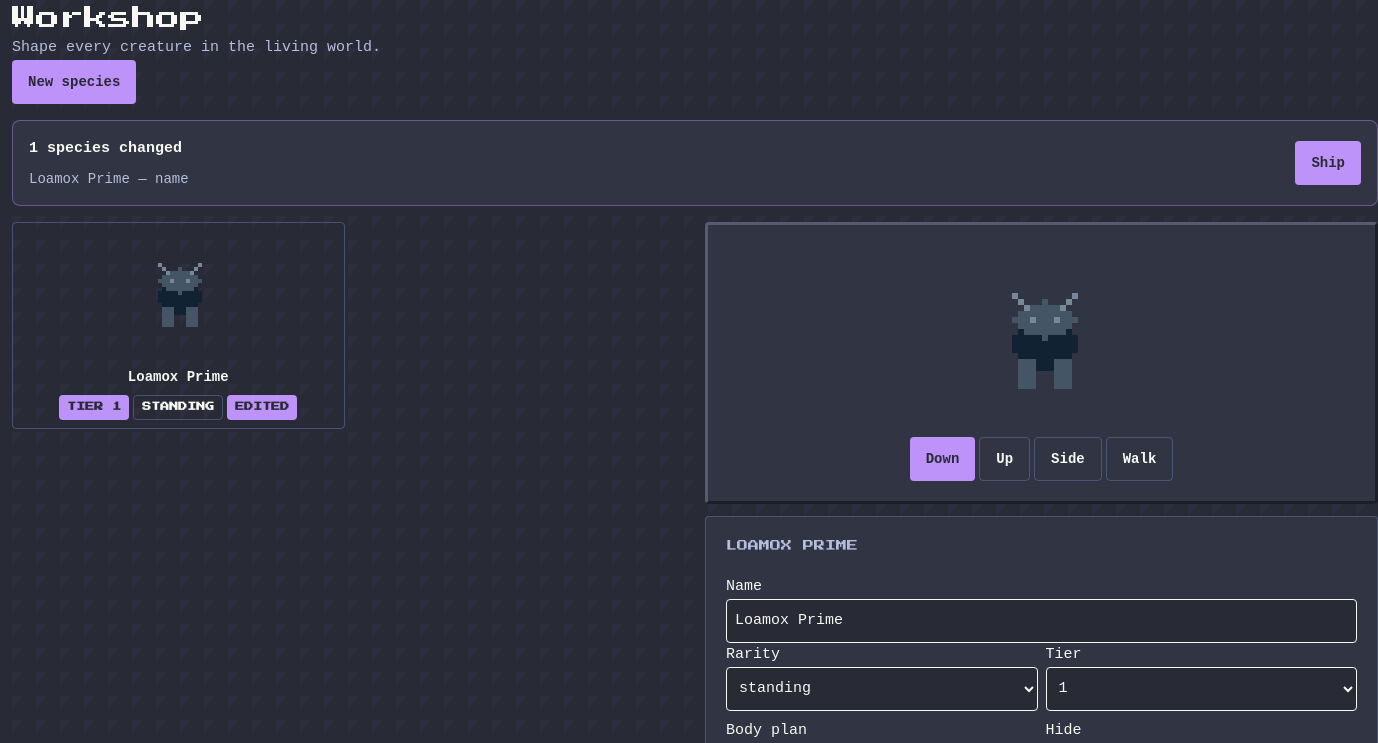
Scenario: Workshop › shows the failing rule in plain English and keeps the draft
Click the button "Ship" at coordinates (1328, 163), box [1295,141,1361,185]
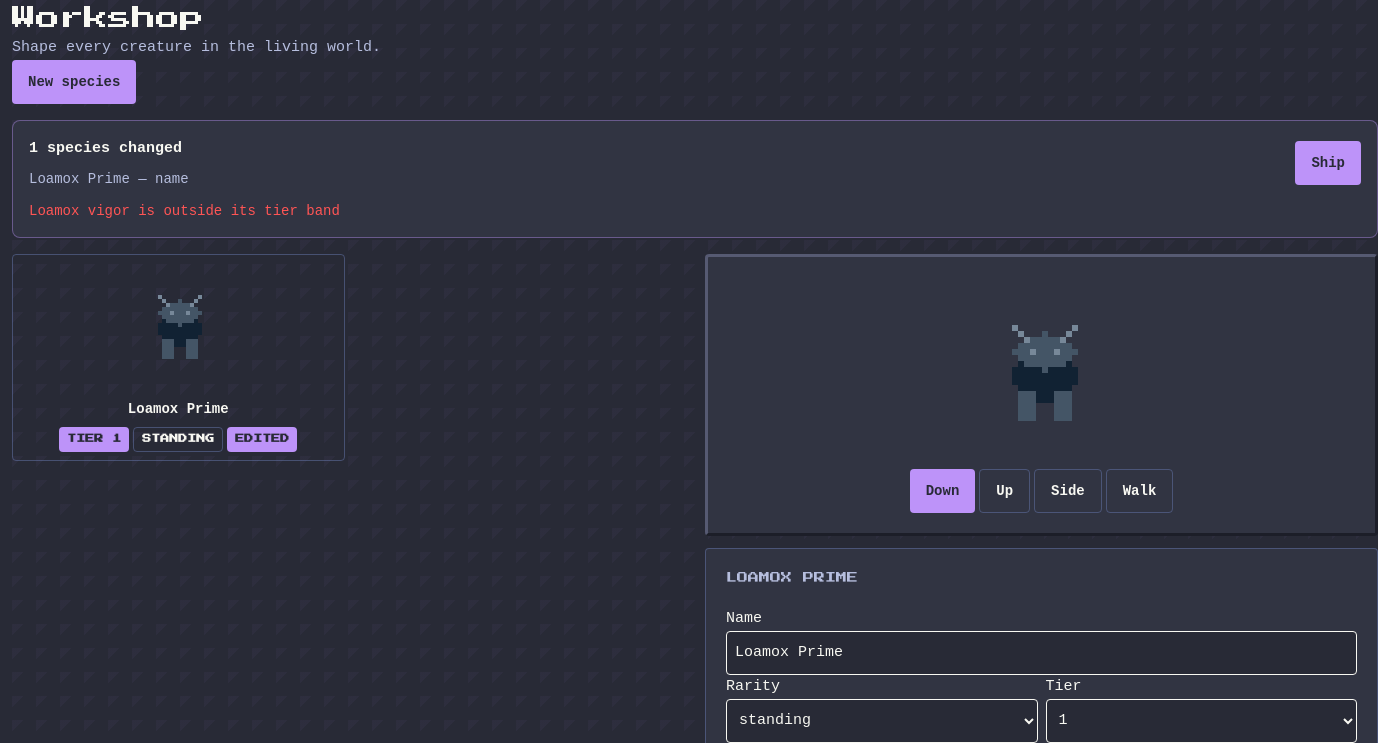
Check: the message reads "Loamox vigor is outside its tier band", box [29,203,340,219]
